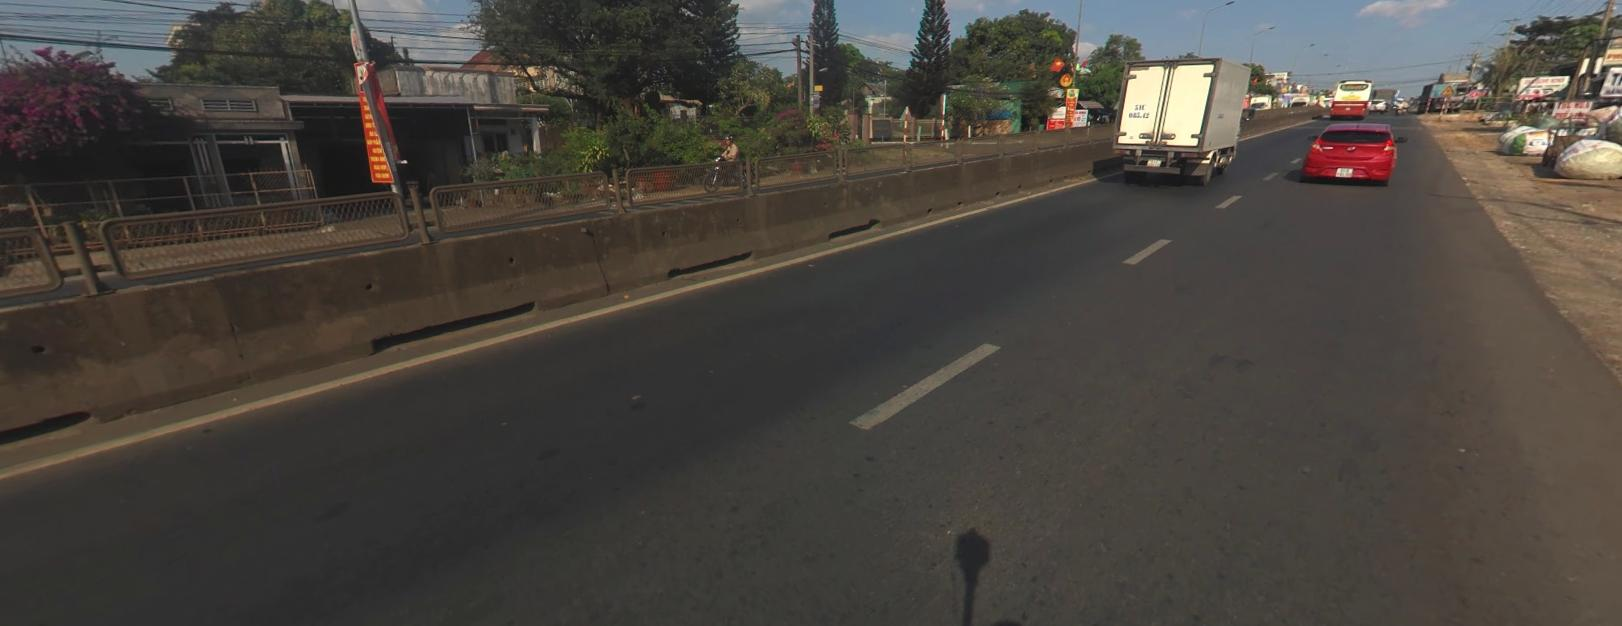Nguy hiem: (1440, 84, 1454, 94)
